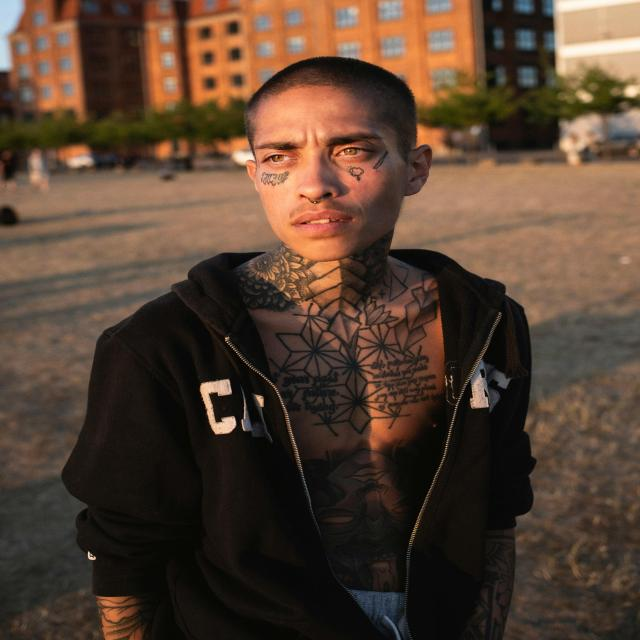human: (56, 45, 546, 640)
